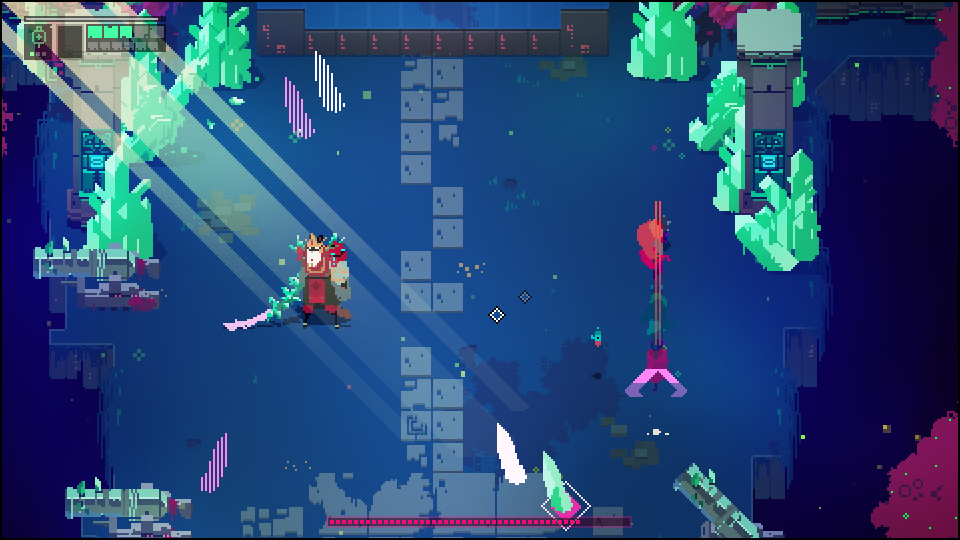hanged_crys: (279, 73, 318, 139), (541, 452, 575, 519), (493, 420, 528, 484), (312, 56, 349, 111), (201, 434, 229, 492)
hanged_man: (259, 228, 356, 334)
player: (632, 217, 672, 266)
